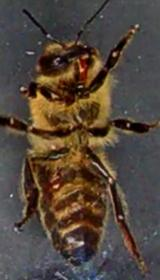varroa_mite: (36, 171, 70, 197)
